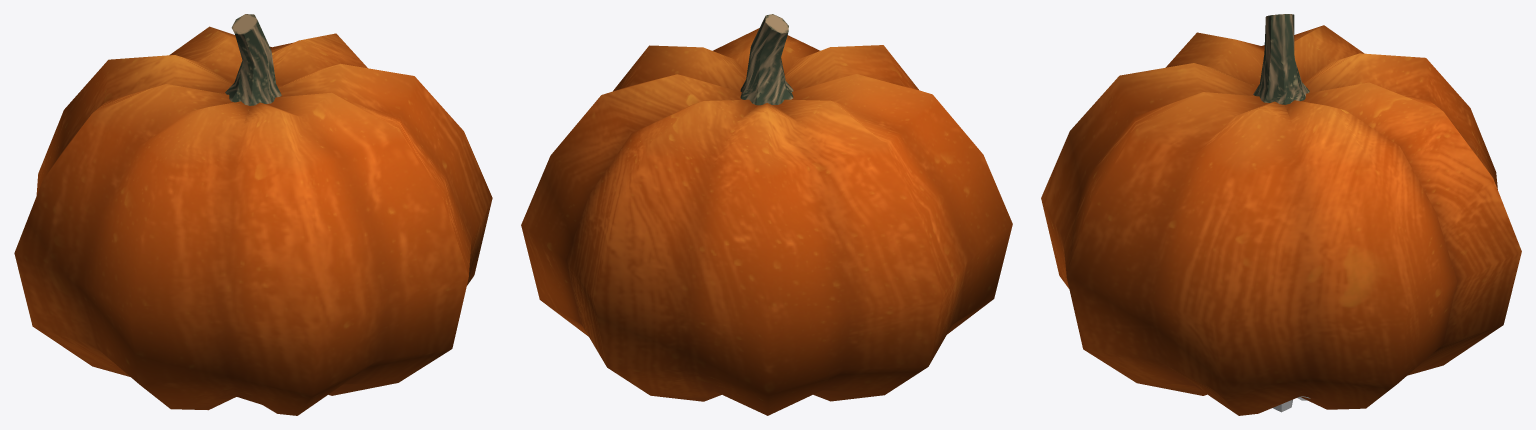
File: SM_Cluster_Kitchen_05.fbx
The picture shows the model from 3 angles, left to right: view 1: azimuth 30°, elevation 25°; view 2: azimuth 150°, elevation 25°; view 3: azimuth 270°, elevation 25°; orthographic projection.
Parts seen in each view (by area): view 1: Punking_Huge_Low; view 2: Punking_Huge_Low; view 3: Punking_Huge_Low.
Part boxes in pixels (x1,y1,x2,y2): Punking_Huge_Low: [14, 14, 492, 415]; Punking_Huge_Low: [521, 14, 1012, 415]; Punking_Huge_Low: [1041, 14, 1521, 415].
Size of the model in its own units: 60.46 by 51.11 by 60.46.
